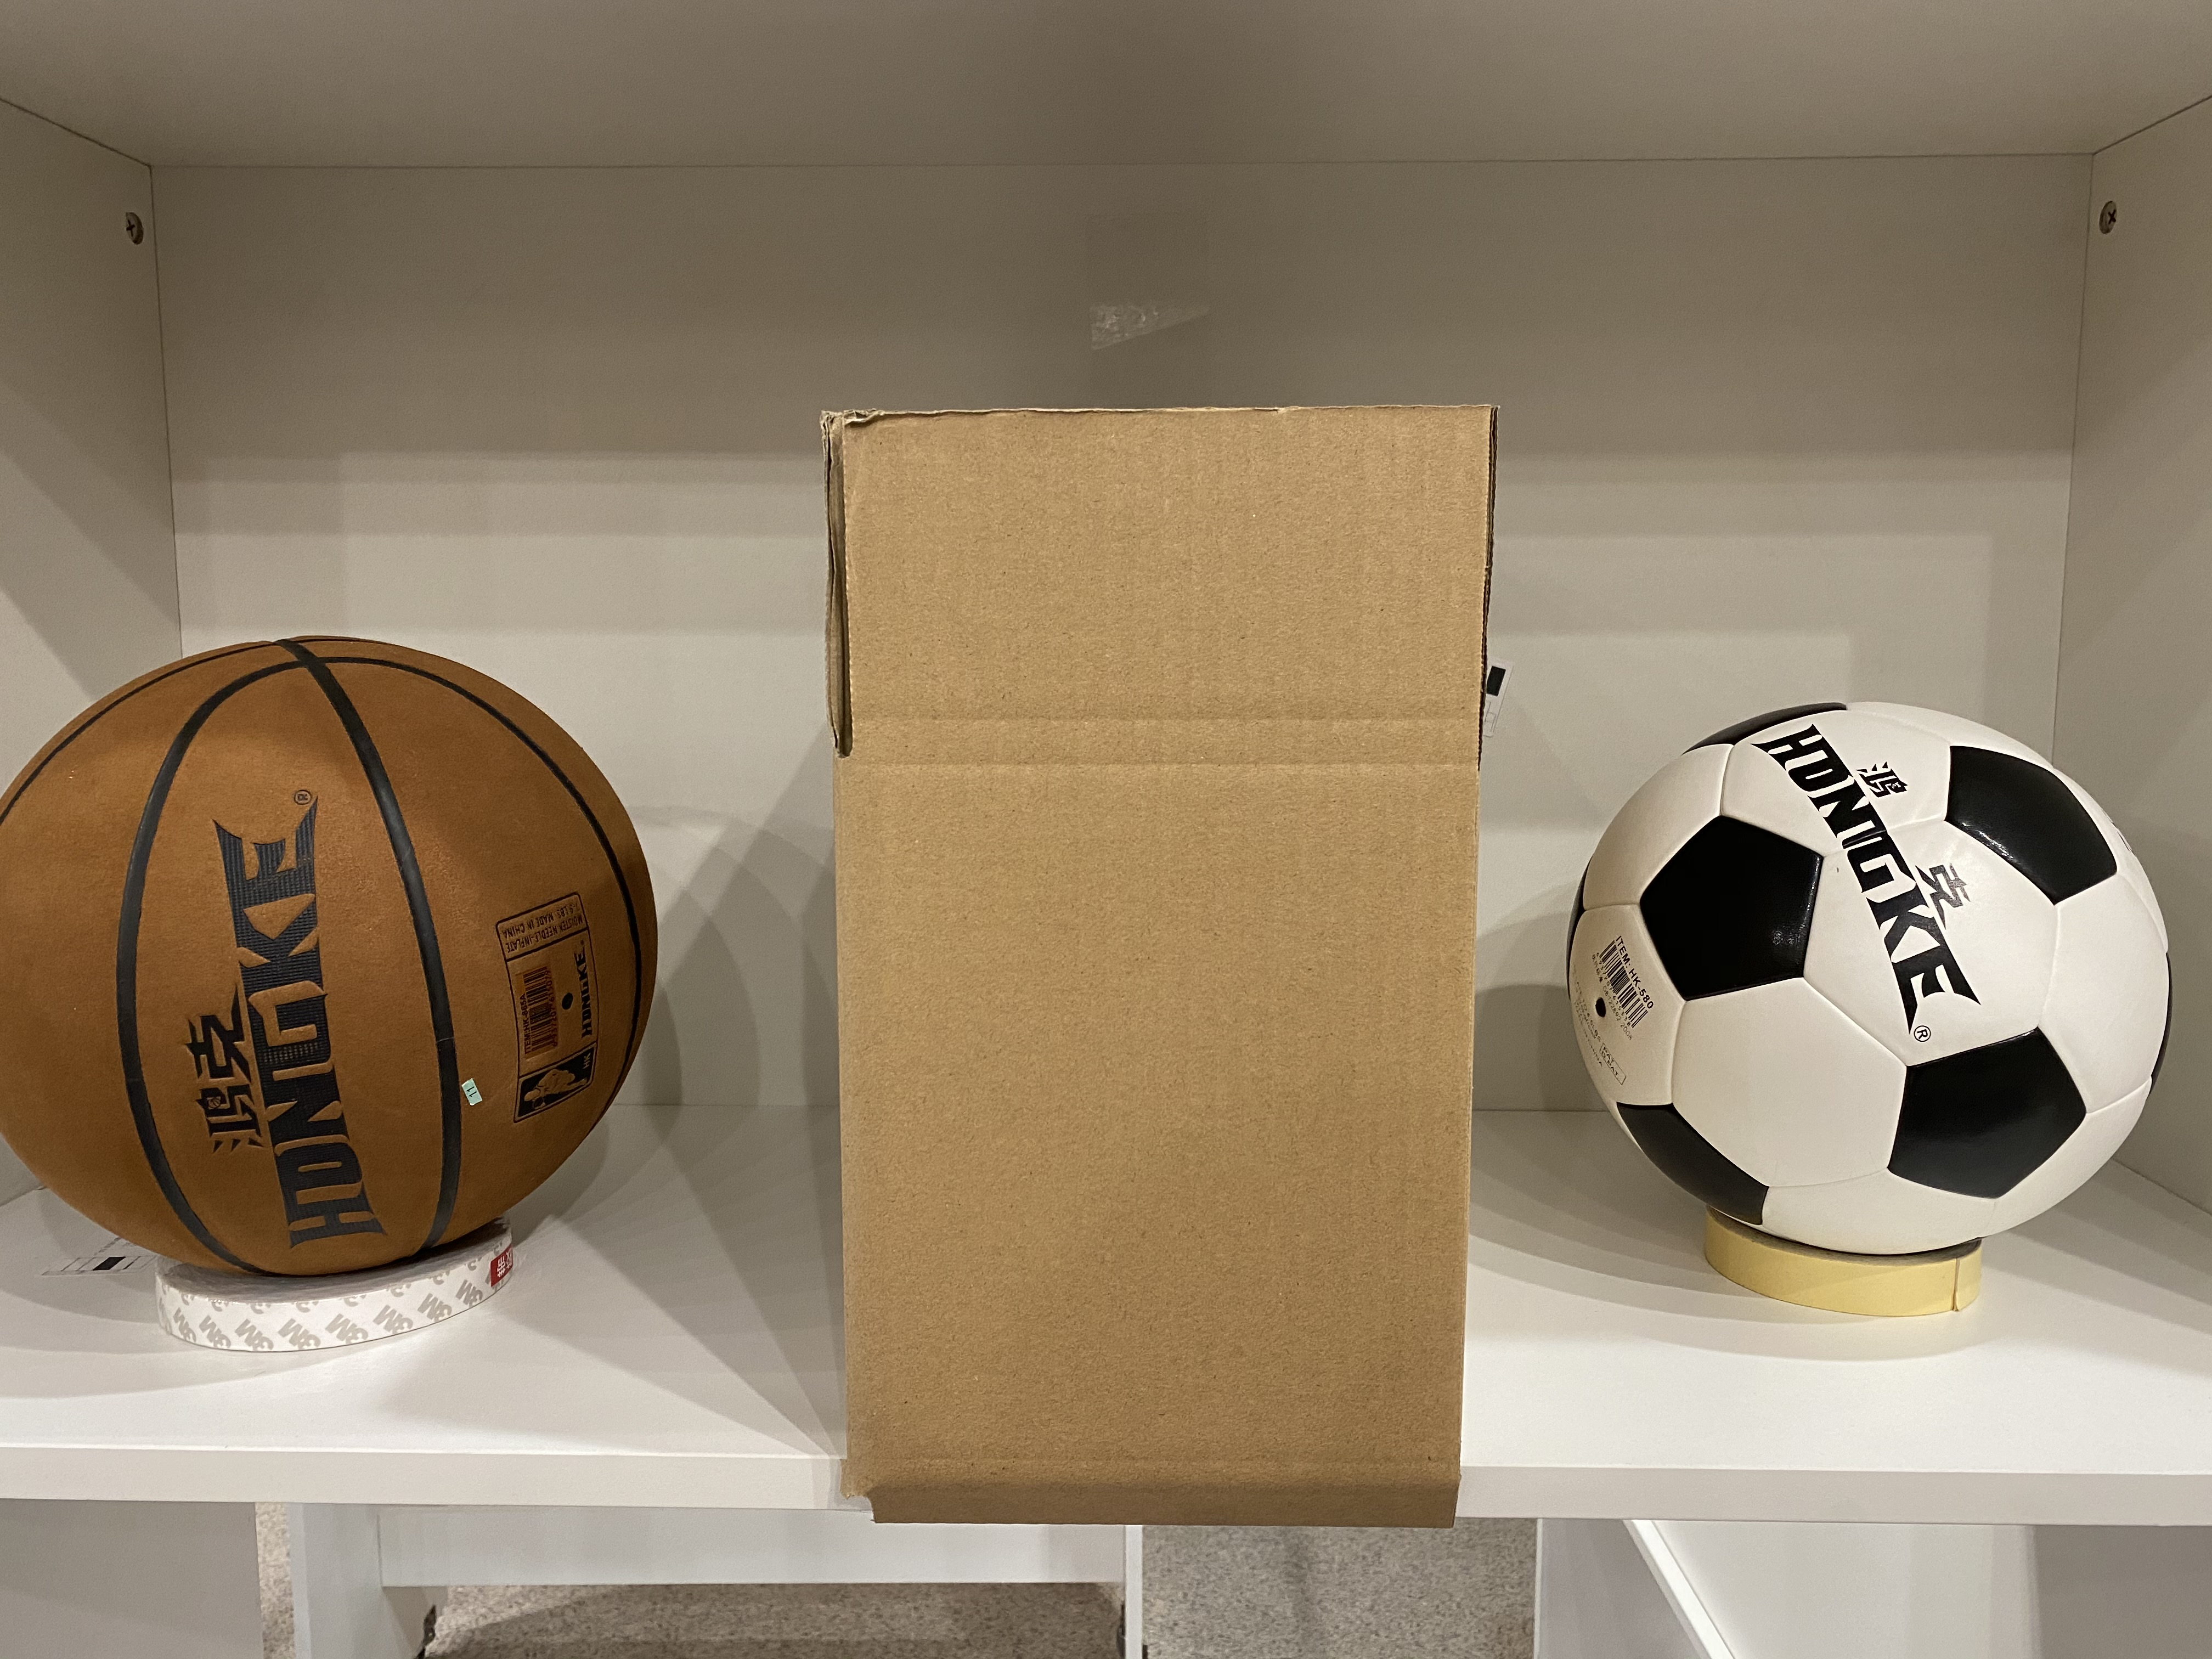basketball: (3, 633, 660, 1243)
football: (1571, 704, 2168, 1216)
